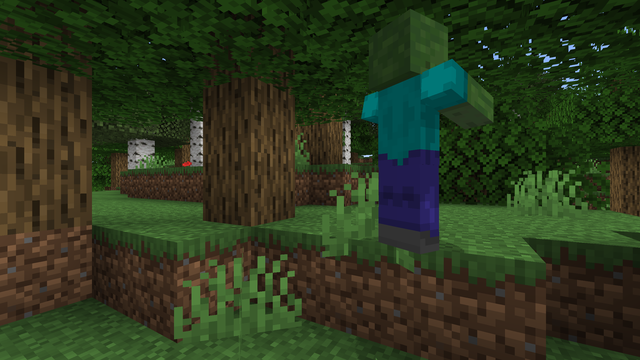zombies: (365, 9, 444, 258)
